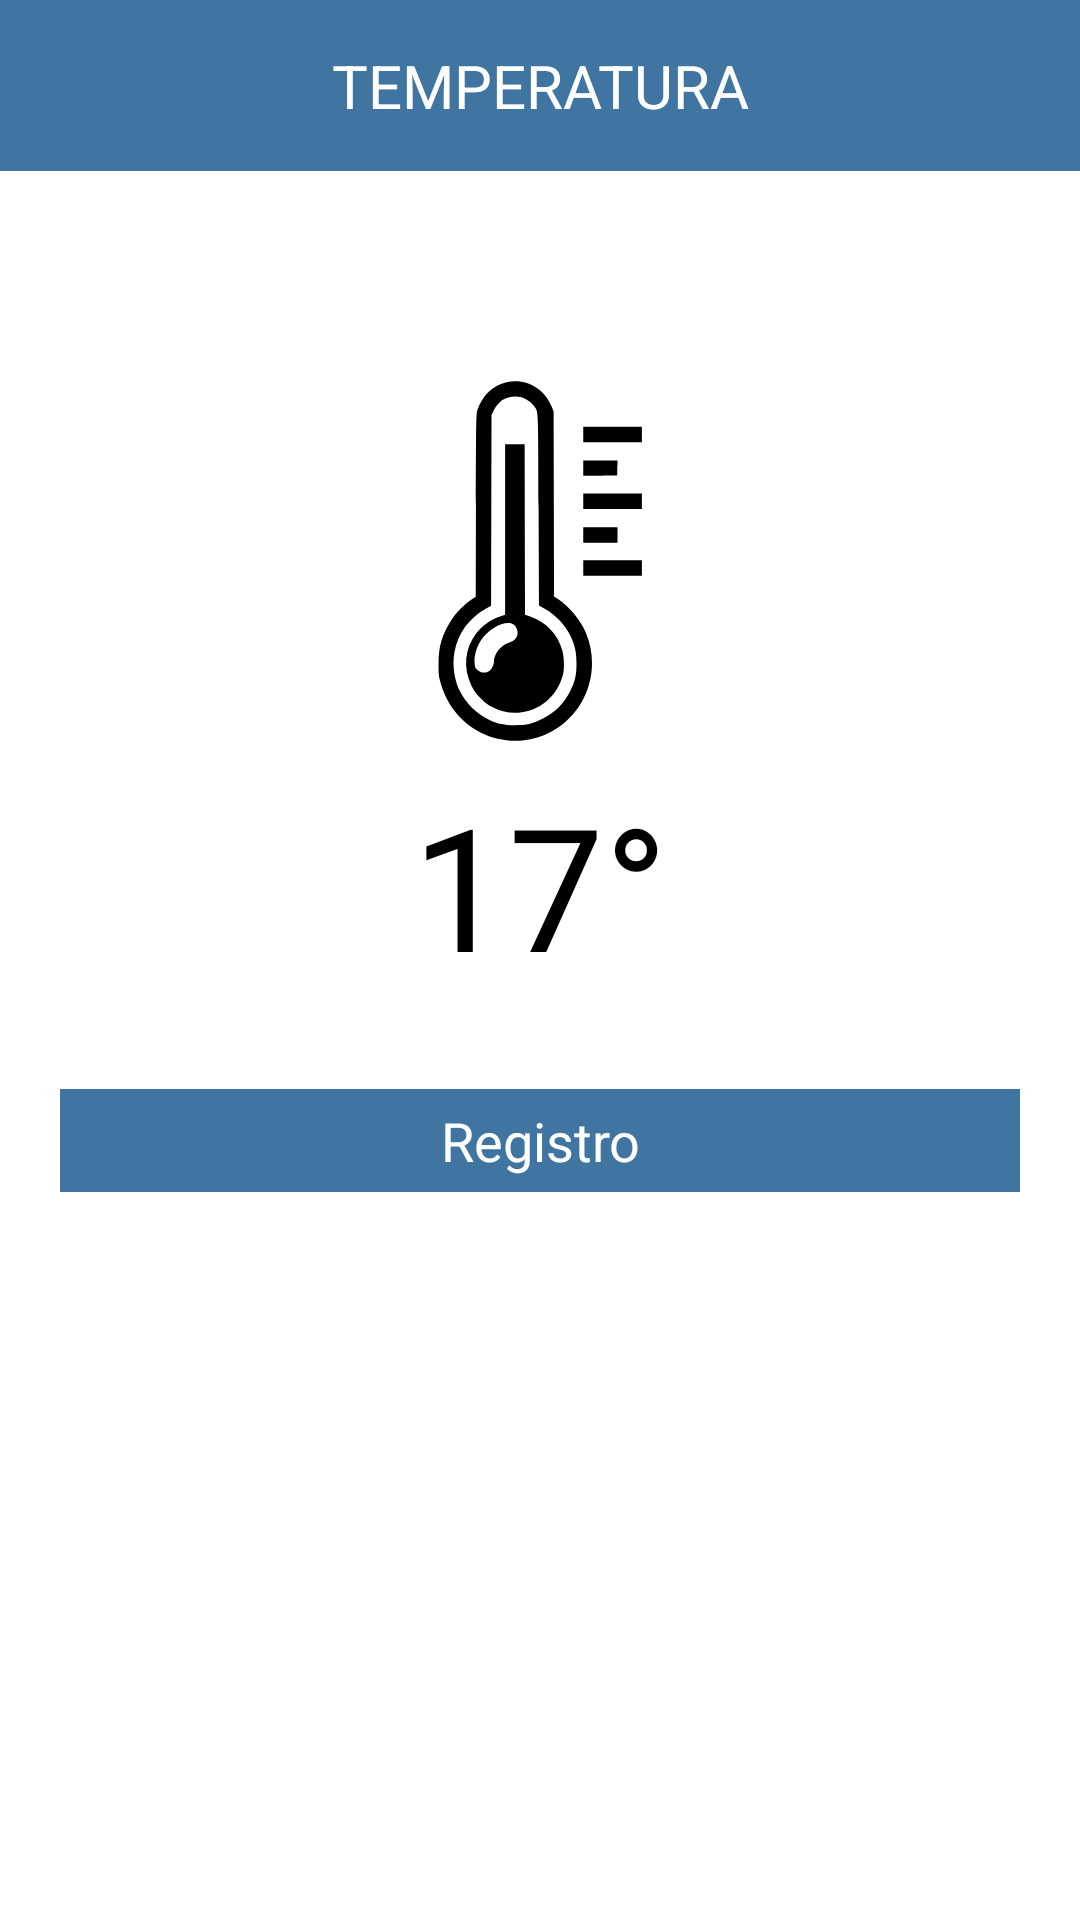

Named icons in this screenshot (1080w x 1920h) and their centers, (x=x, y=y):
temperature: (x=540, y=561)
